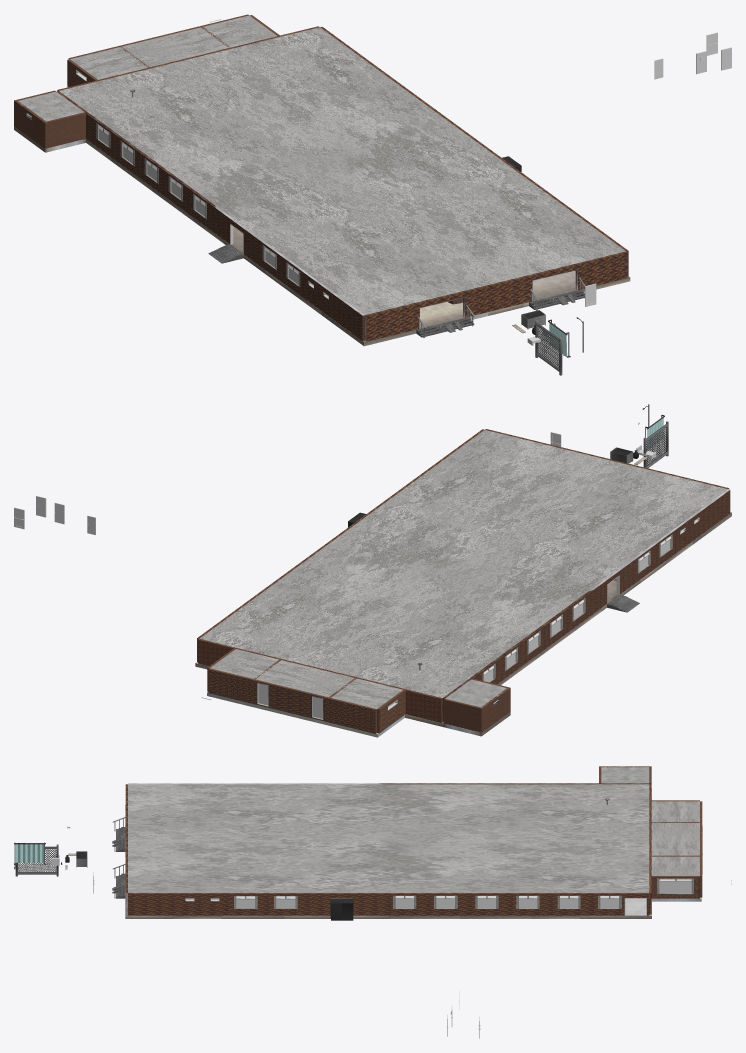
The model's file is Mapa V.018.fbx.
The picture shows the model from 3 angles, top to bottom: view 1: azimuth 30°, elevation 25°; view 2: azimuth 150°, elevation 25°; view 3: azimuth 270°, elevation 25°; orthographic projection. The views are drawn at different scales.
Visible parts, largest first — view 1: teto, Parede_Direita, Parede_Frontal_Entrada, Teto_Anexo_Arquivos_Reuniao_Diretoria, Chao, Comodo_Anexo_Zelador, teto_zelador, Comodo_Anexo_Arquivo_Reuniao_Diretoria, Parede_Esquerda, Grade; view 2: teto, Parede_Direita, Comodo_Anexo_Arquivo_Reuniao_Diretoria, Teto_Anexo_Arquivos_Reuniao_Diretoria, Parede_Interna_Fundos, Comodo_Anexo_Zelador, Chao, teto_zelador, Parede_Esquerda, Chao_Anexo_Arquivo_Reuniao_Diretoria; view 3: teto, Parede_Esquerda, Teto_Anexo_Arquivos_Reuniao_Diretoria, Chao, Comodo_Anexo_Arquivo_Reuniao_Diretoria, Parede_Direita, teto_zelador, Caixa do Elevador, Vidros_Janela_Anexo_Diretoria, Grade.
Boxes of the visible parts, <box> form: teto: <box>59,27,625,314</box>; Parede_Direita: <box>56,91,364,341</box>; Parede_Frontal_Entrada: <box>365,251,627,341</box>; Teto_Anexo_Arquivos_Reuniao_Diretoria: <box>70,15,277,79</box>; Chao: <box>86,139,630,346</box>; Comodo_Anexo_Zelador: <box>14,90,85,148</box>; teto_zelador: <box>18,91,84,121</box>; Comodo_Anexo_Arquivo_Reuniao_Diretoria: <box>67,14,279,86</box>; Parede_Esquerda: <box>320,26,628,276</box>; Grade: <box>537,327,559,368</box>; teto: <box>199,430,727,697</box>; Parede_Direita: <box>442,489,730,721</box>; Comodo_Anexo_Arquivo_Reuniao_Diretoria: <box>207,648,405,733</box>; Teto_Anexo_Arquivos_Reuniao_Diretoria: <box>210,649,402,708</box>; Parede_Interna_Fundos: <box>198,639,442,722</box>; Comodo_Anexo_Zelador: <box>443,678,510,732</box>; Chao: <box>195,512,731,726</box>; teto_zelador: <box>445,679,508,707</box>; Parede_Esquerda: <box>197,429,484,662</box>; Chao_Anexo_Arquivo_Reuniao_Diretoria: <box>207,692,404,737</box>; teto: <box>128,784,649,892</box>; Parede_Esquerda: <box>128,893,649,915</box>; Teto_Anexo_Arquivos_Reuniao_Diretoria: <box>651,801,699,875</box>; Chao: <box>125,805,651,918</box>; Comodo_Anexo_Arquivo_Reuniao_Diretoria: <box>651,800,702,898</box>; Parede_Direita: <box>128,783,649,784</box>; teto_zelador: <box>601,766,649,783</box>; Caixa do Elevador: <box>330,898,353,920</box>; Vidros_Janela_Anexo_Diretoria: <box>659,879,691,893</box>; Grade: <box>18,849,56,872</box>.
Size of the model in its own units: 7389 by 687 by 8951.
Materials: 608 (541 with a texture image).
